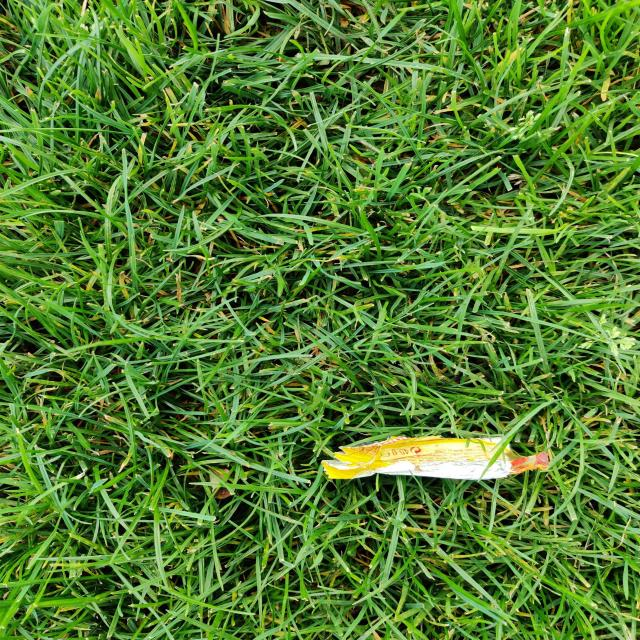litter: (311, 428, 561, 488)
